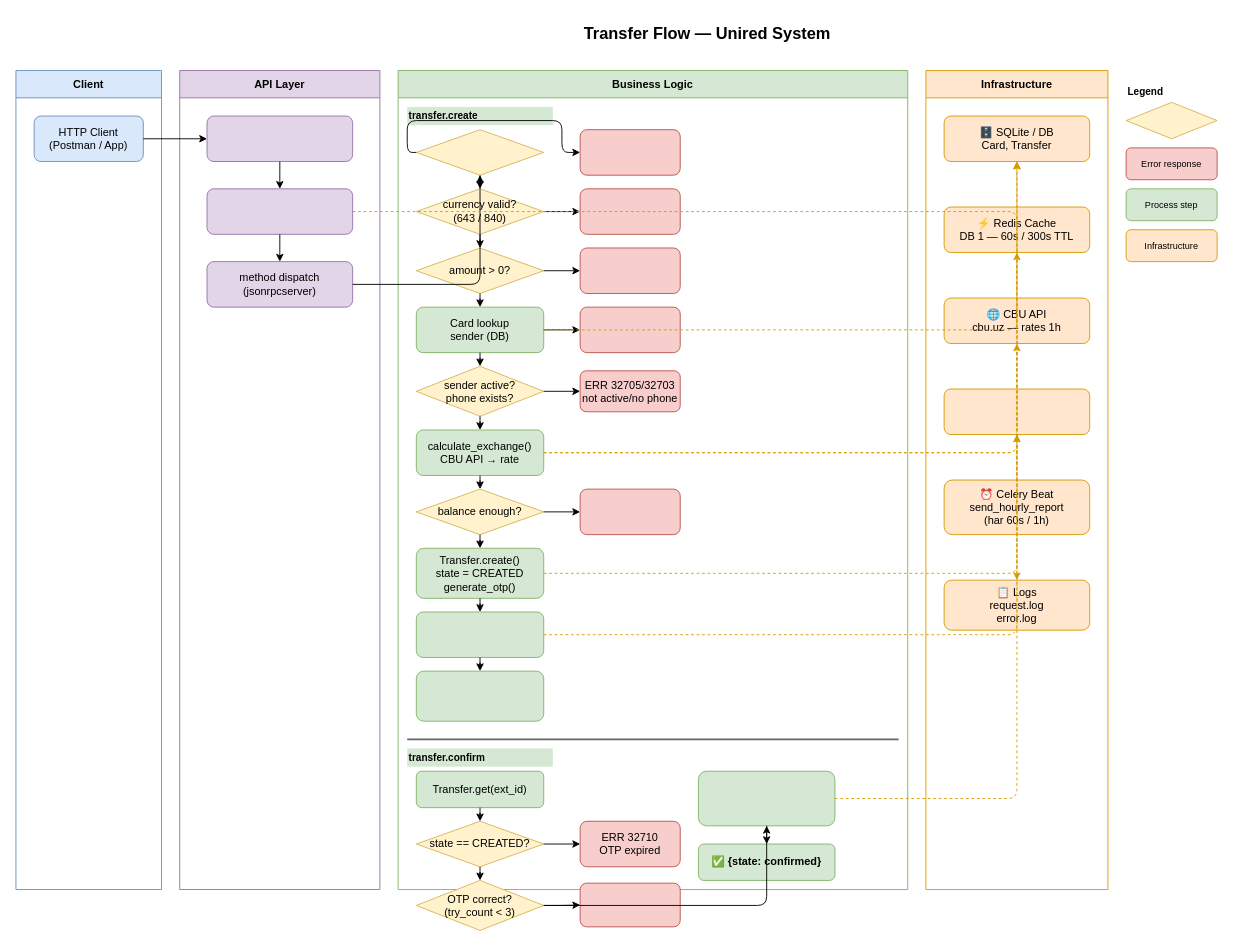
This 1233x946 diagram has some shape labels left out. The box of each missing label's shape, as (x1, y1, x2, y2) in pixels:
ATOMIC: sender.balance -= receiver.balance +=: (698, 770, 835, 826)
Decision: (1125, 101, 1217, 139)
ERR 32701 ext_id exists: (579, 129, 680, 175)
ERR 32702 balance low: (579, 488, 680, 535)
ERR 32704 card/expiry invalid: (579, 306, 680, 353)
ERR 32707 currency invalid: (579, 188, 680, 234)
ERR 32709 amount too small: (579, 247, 680, 293)
ERR 32712/32711 wrong OTP / limit: (579, 882, 680, 927)
ext_id unique?: (415, 129, 544, 175)
IP Logging request_logger.info(): (206, 188, 353, 234)
POST /task2/ JSON-RPC 2.0: (206, 115, 353, 162)
send_otp() SMS + Telegram: (415, 611, 544, 657)
✅ Response {state: created, otp_sent: true}: (415, 670, 544, 721)
📱 Telegram Bot API OTP + Reports: (943, 388, 1090, 435)
